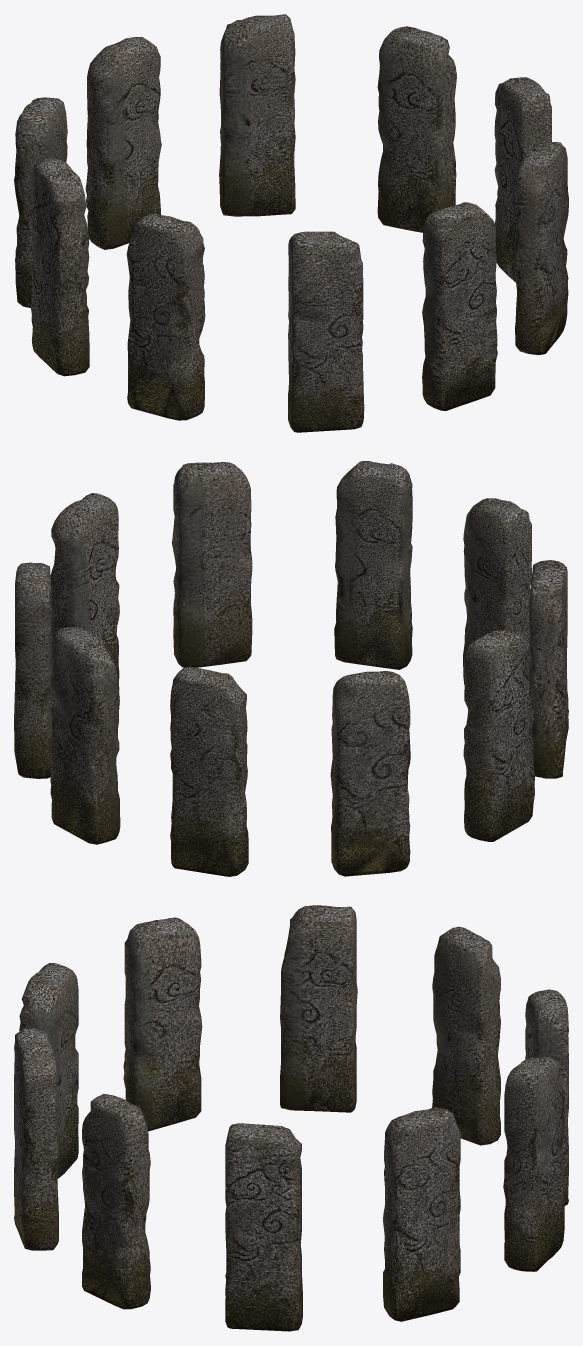
The model's file is tripo_convert_093379bb-87d6-4090-be87-07e992b408b7.fbx.
The picture shows the model from 3 angles, top to bottom: view 1: azimuth 30°, elevation 25°; view 2: azimuth 150°, elevation 25°; view 3: azimuth 270°, elevation 25°; orthographic projection. The views are drawn at different scales.
Visible parts, largest first — view 1: tripo_node_093379bb; view 2: tripo_node_093379bb; view 3: tripo_node_093379bb.
Boxes of the visible parts, left/top/right/bottom form: tripo_node_093379bb: left=14, top=14, right=568, bottom=432; tripo_node_093379bb: left=14, top=461, right=568, bottom=876; tripo_node_093379bb: left=14, top=905, right=568, bottom=1331.
Size of the model in its own units: 0.998 by 0.3848 by 0.9902.
Materials: 1 (1 with a texture image).
